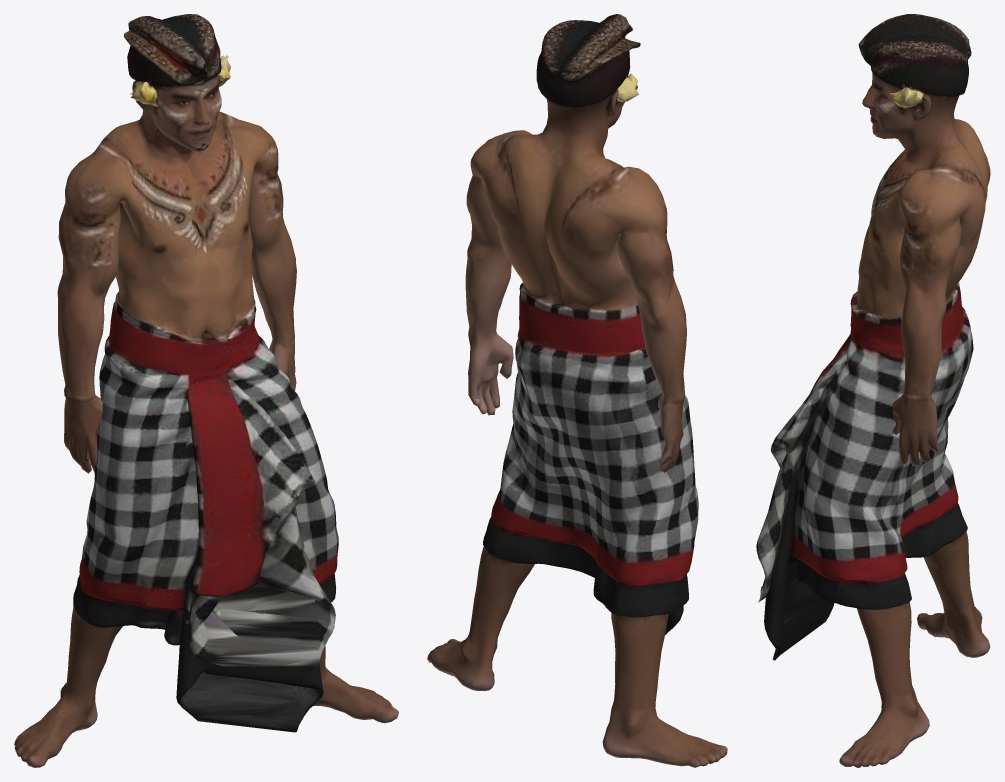
Rendered from penari_kecak_idle.glb.
3 renders of one model, left to right at view 1: azimuth 30°, elevation 25°; view 2: azimuth 150°, elevation 25°; view 3: azimuth 270°, elevation 25°, orthographic. The views are drawn at different scales.
Parts seen in each view (by area): view 1: tripo_node_ac7db75d-6cfe-4be4-a2d9-8f6c44a57130; view 2: tripo_node_ac7db75d-6cfe-4be4-a2d9-8f6c44a57130; view 3: tripo_node_ac7db75d-6cfe-4be4-a2d9-8f6c44a57130.
Part boxes in pixels (bbox=[...]): tripo_node_ac7db75d-6cfe-4be4-a2d9-8f6c44a57130: bbox=[14, 14, 398, 767]; tripo_node_ac7db75d-6cfe-4be4-a2d9-8f6c44a57130: bbox=[427, 14, 727, 767]; tripo_node_ac7db75d-6cfe-4be4-a2d9-8f6c44a57130: bbox=[756, 14, 990, 767].
Bounding box in the file's own units: 47.59 × 99.15 × 31.63.
Materials: 1 (1 with a texture image).
